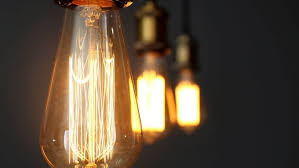bulb: (30, 1, 143, 168), (118, 41, 182, 146), (171, 60, 223, 139)
